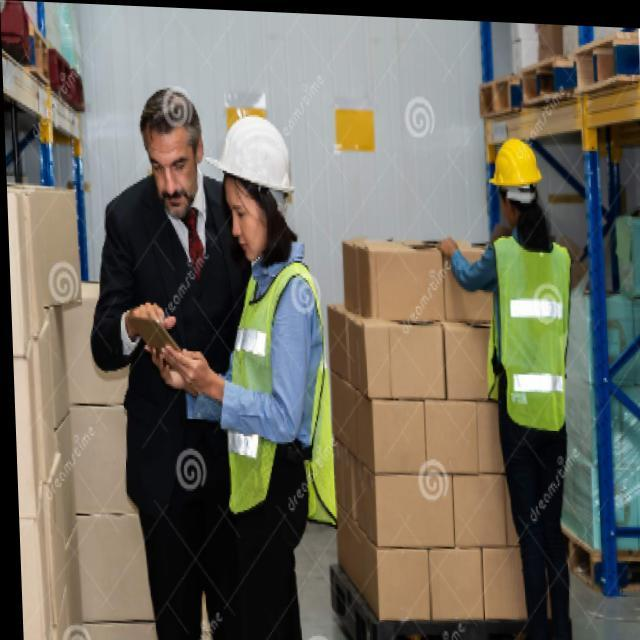hard_hat: (203, 110, 300, 256), (482, 129, 549, 238)
vest: (215, 251, 342, 534), (482, 233, 580, 437)
